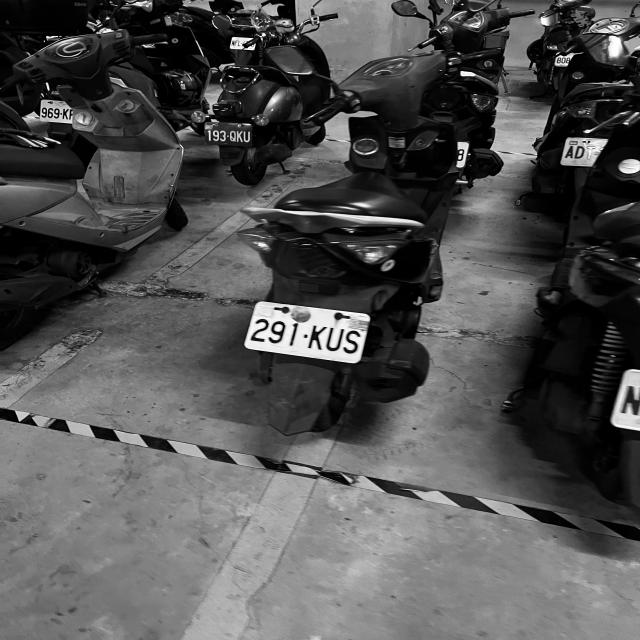-: (301, 332, 308, 338), (227, 135, 229, 137), (60, 112, 62, 114)
0: (561, 57, 566, 64)
1: (288, 322, 299, 347), (207, 130, 211, 141)
2: (250, 316, 268, 342)
3: (220, 130, 226, 142)
6: (48, 108, 54, 118)
8: (557, 58, 561, 64), (566, 58, 570, 64)
9: (269, 318, 285, 344), (212, 130, 220, 141), (54, 108, 60, 119), (41, 107, 47, 118)
A: (564, 145, 574, 159)
D: (573, 146, 586, 159)
F: (234, 40, 239, 46)
K: (308, 324, 325, 352), (236, 131, 243, 142), (62, 108, 68, 120)
Q: (230, 130, 236, 142)
S: (345, 330, 361, 354)
U: (326, 326, 344, 354), (243, 131, 250, 142)
plate: (247, 303, 371, 358), (205, 122, 252, 146)
